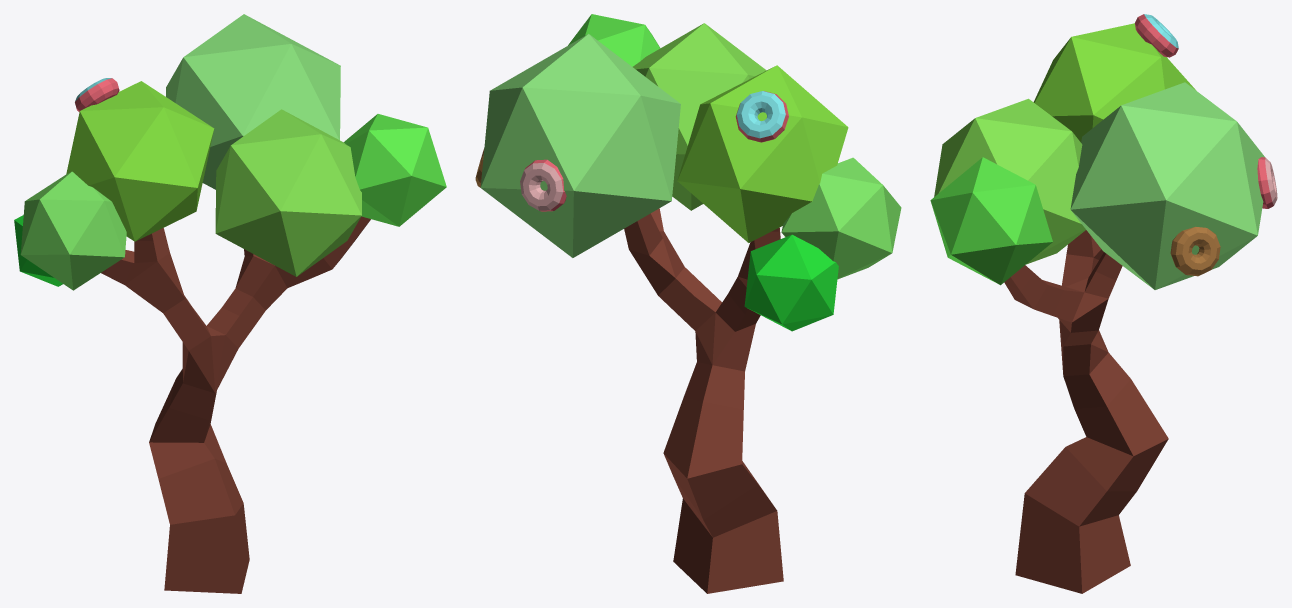
File: donutTree.fbx
3 renders of one model, left to right at view 1: azimuth 30°, elevation 25°; view 2: azimuth 150°, elevation 25°; view 3: azimuth 270°, elevation 25°, orthographic. The views are drawn at different scales.
Parts seen in each view (by area): view 1: Cube, Icosphere.004, Icosphere.001, Icosphere.002, Icosphere.005, Icosphere.003, Torus.002, Icosphere; view 2: Icosphere.002, Cube, Icosphere.001, Icosphere.005, Icosphere.004, Icosphere, Icosphere.003, Torus.002, Torus; view 3: Cube, Icosphere.002, Icosphere.004, Icosphere.003, Icosphere.001, Torus.001, Torus.002, Torus.
Boxes of the visible parts, <box> form: Cube: <box>101,216,370,593</box>; Icosphere.004: <box>215,109,361,276</box>; Icosphere.001: <box>66,81,214,241</box>; Icosphere.002: <box>166,14,340,189</box>; Icosphere.005: <box>20,171,126,290</box>; Icosphere.003: <box>343,114,446,226</box>; Torus.002: <box>75,78,119,111</box>; Icosphere: <box>14,215,62,286</box>; Icosphere.002: <box>480,34,680,257</box>; Cube: <box>624,208,783,593</box>; Icosphere.001: <box>677,65,848,242</box>; Icosphere.005: <box>781,157,901,279</box>; Icosphere.004: <box>633,23,766,210</box>; Icosphere: <box>744,234,838,331</box>; Icosphere.003: <box>568,14,660,66</box>; Torus.002: <box>735,91,788,142</box>; Torus: <box>520,159,566,211</box>; Cube: <box>1004,230,1168,593</box>; Icosphere.002: <box>1070,82,1264,289</box>; Icosphere.004: <box>934,98,1085,264</box>; Icosphere.003: <box>930,157,1052,285</box>; Icosphere.001: <box>1033,23,1196,142</box>; Torus.001: <box>1170,226,1220,276</box>; Torus.002: <box>1135,14,1178,57</box>; Torus: <box>1257,157,1277,208</box>.
Bounding box in the file's own units: 302 × 391 × 236.
